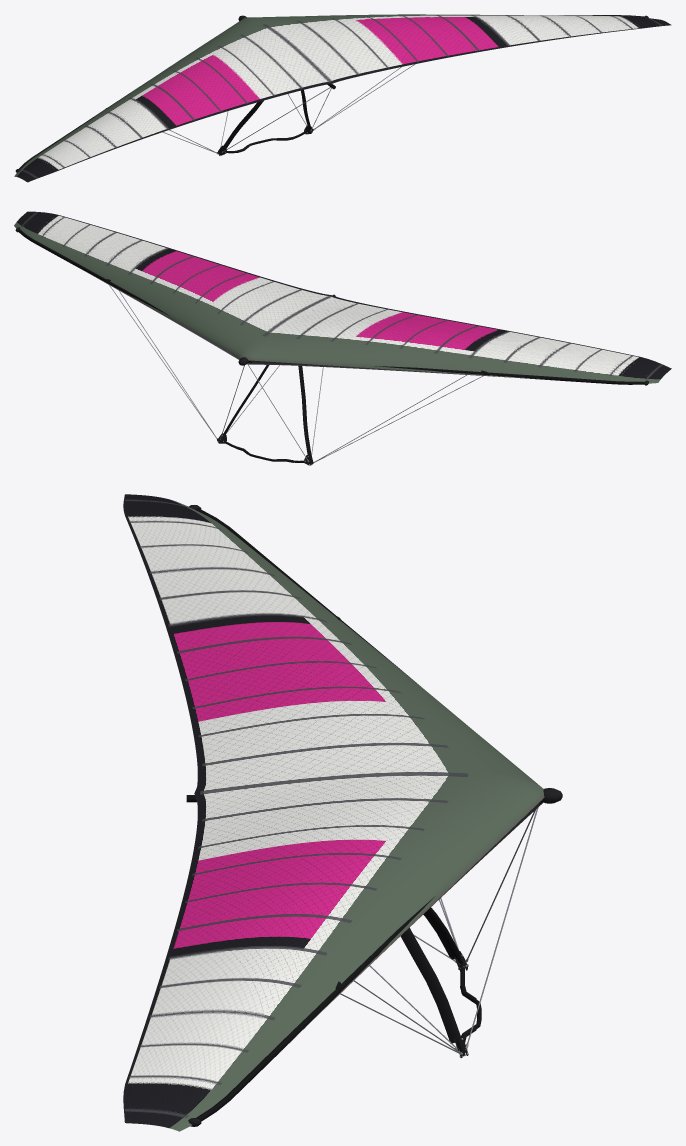
File: glider_ww_t2c.glb
3 views of the same model, one above another, from view 1: azimuth 30°, elevation 25°; view 2: azimuth 150°, elevation 25°; view 3: azimuth 270°, elevation 25° (orthographic). The views are drawn at different scales.
Visible parts, largest first — view 1: Sail, ControlFrame, Frame; view 2: Sail, ControlFrame, Frame; view 3: Sail, ControlFrame, Frame.
Boxes of the visible parts, x1,y1,x2,y2 form: Sail: (14, 14, 671, 182); ControlFrame: (162, 64, 415, 155); Frame: (15, 15, 648, 172); Sail: (14, 211, 671, 383); ControlFrame: (109, 285, 483, 465); Frame: (15, 227, 648, 385); Sail: (123, 494, 544, 1131); ControlFrame: (340, 807, 538, 1057); Frame: (186, 505, 562, 1126).
Bounding box in the file's own units: 9.8 × 1.79 × 2.89.
Materials: 8 (1 with a texture image).
